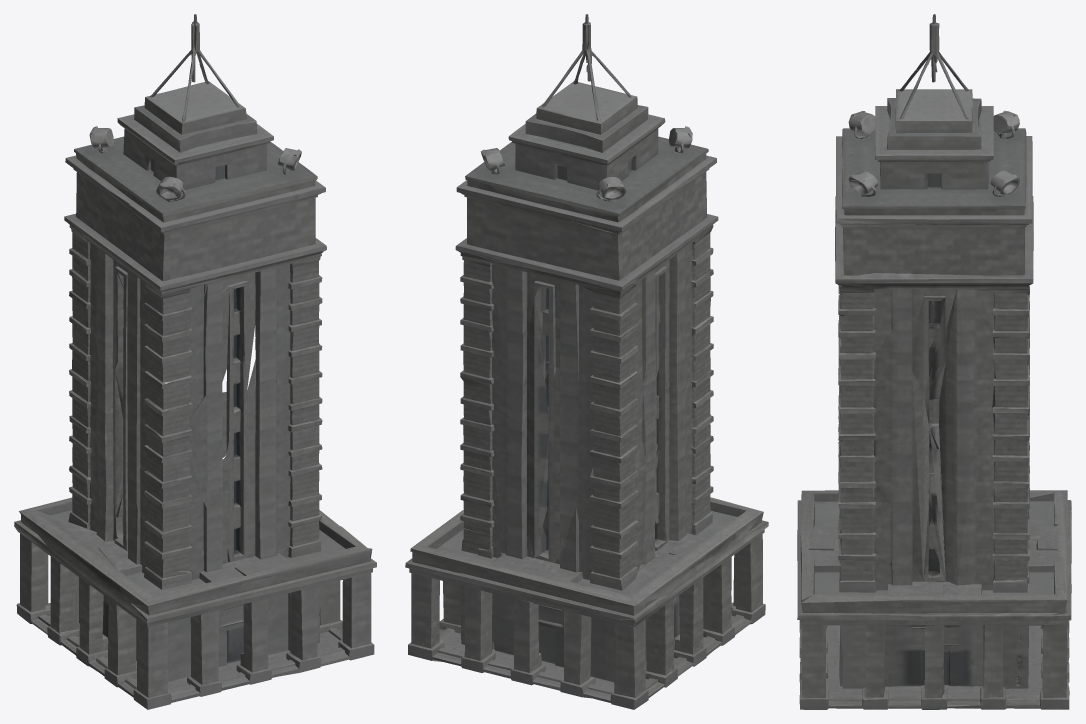
File: gauturm.glb
3 renders of one model, left to right at view 1: azimuth 30°, elevation 25°; view 2: azimuth 150°, elevation 25°; view 3: azimuth 270°, elevation 25°, orthographic. The views are drawn at different scales.
Visible parts, largest first — view 1: main; view 2: main; view 3: main.
Boxes of the visible parts, box(x1,y1,x2,y2) form: main: box(14, 14, 376, 709); main: box(405, 14, 768, 709); main: box(797, 14, 1071, 709).
Bounding box in the file's own units: 18.09 × 46.5 × 18.09.
Materials: 1 (1 with a texture image).
